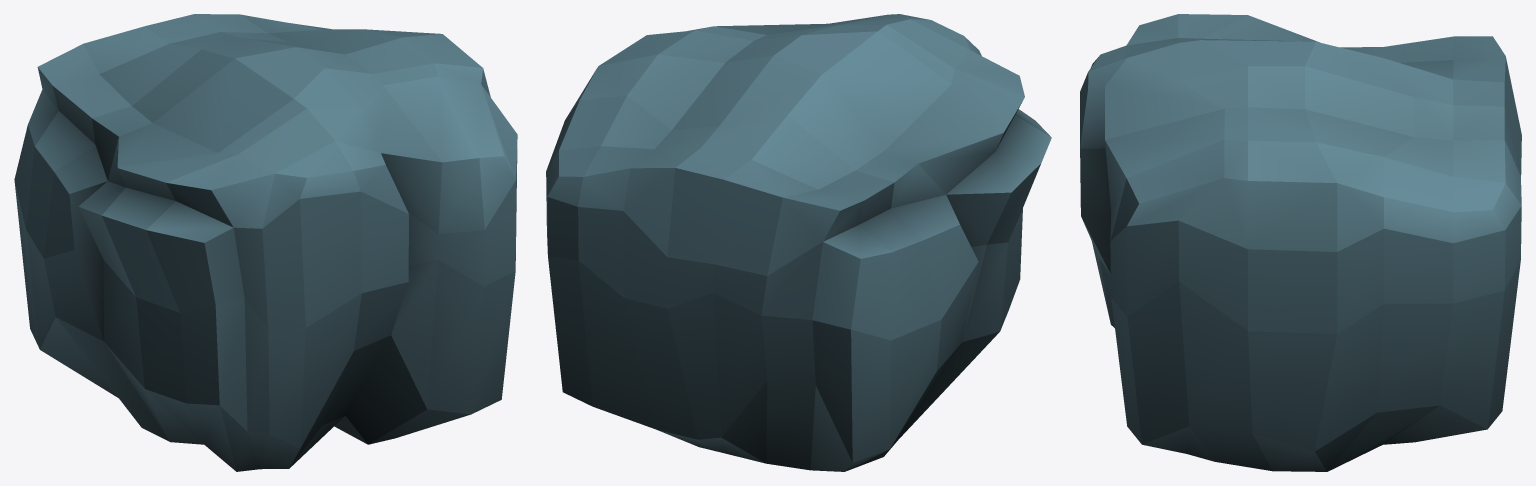
3 views of the same model, side by side, from view 1: azimuth 30°, elevation 25°; view 2: azimuth 150°, elevation 25°; view 3: azimuth 270°, elevation 25° (orthographic). The views are drawn at different scales.
Parts seen in each view (by area): view 1: alt7.037; view 2: alt7.037; view 3: alt7.037.
Part boxes in pixels (x1,y1,x2,y2): alt7.037: (14,14,517,471); alt7.037: (546,14,1051,471); alt7.037: (1080,14,1521,471).
Bounding box in the file's own units: 0.5 × 0.4199 × 0.4682.
